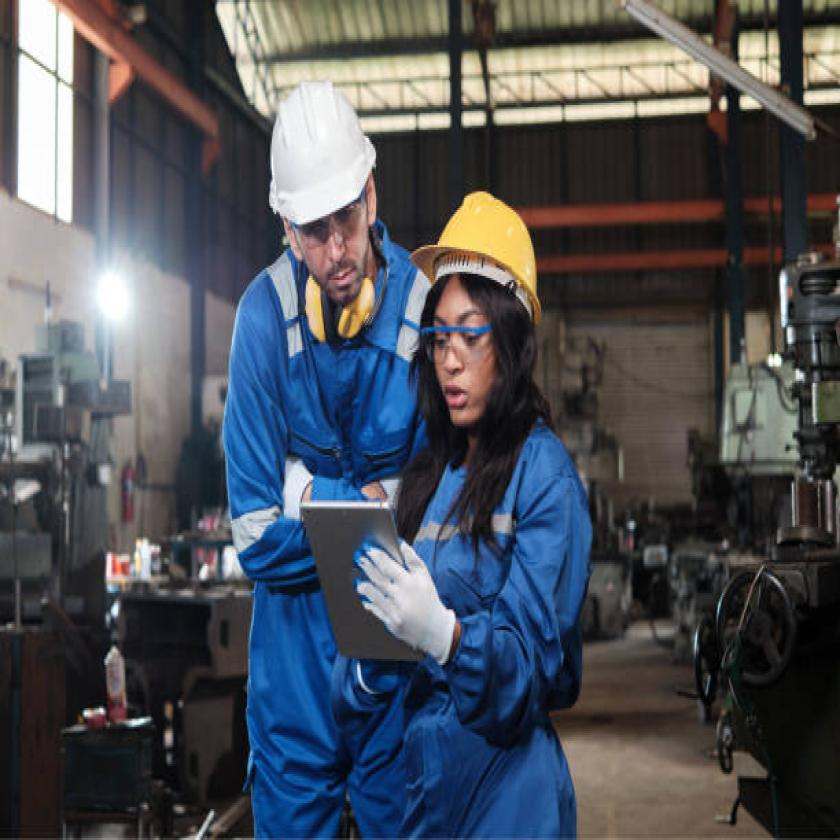Con_casco: (247, 30, 397, 322), (411, 158, 566, 438)
